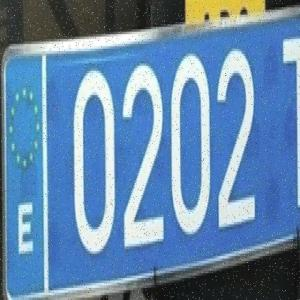Plate: (1, 7, 300, 300)
